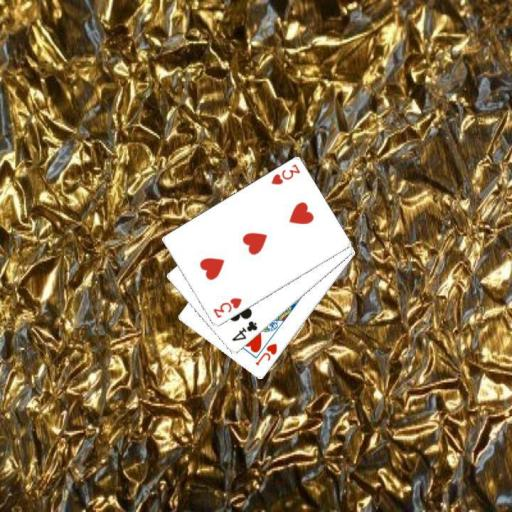3H: (210, 294, 243, 320), (268, 162, 302, 187)
4C: (229, 318, 259, 343)
JH: (252, 341, 279, 368)
